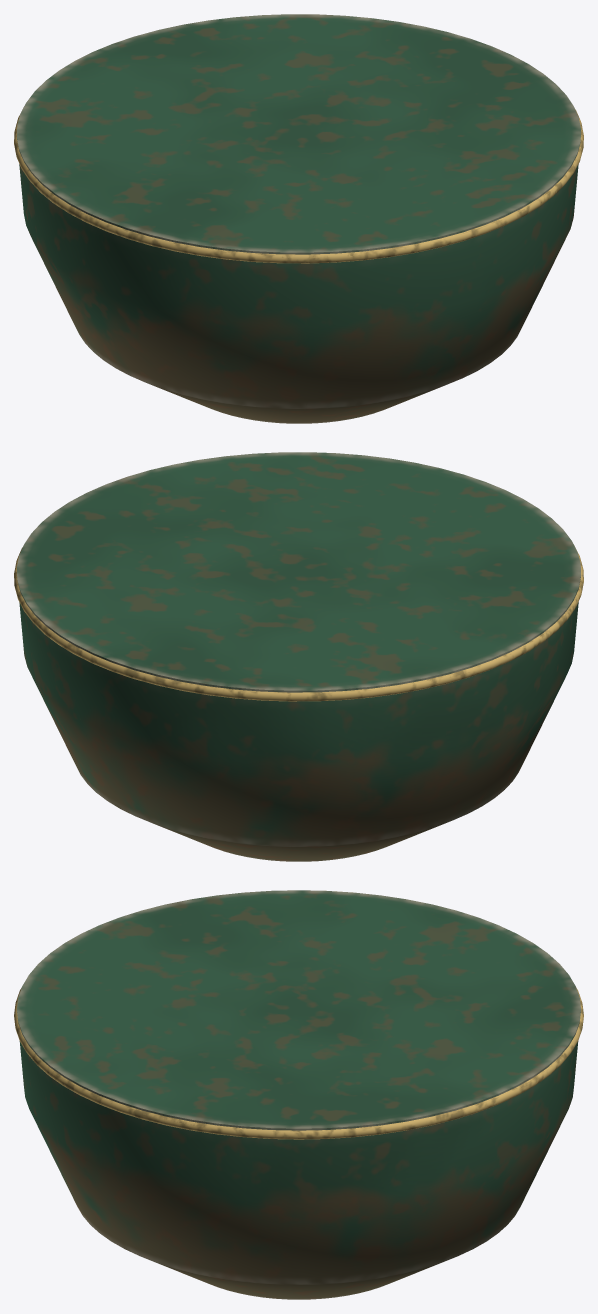
The model's file is colossus_shell.glb.
The picture shows the model from 3 angles, top to bottom: view 1: azimuth 30°, elevation 25°; view 2: azimuth 150°, elevation 25°; view 3: azimuth 270°, elevation 25°; orthographic projection.
Visible parts, largest first — view 1: colossus_shell; view 2: colossus_shell; view 3: colossus_shell.
Part boxes in pixels (x1,y1,x2,y2): colossus_shell: [14, 14, 583, 423]; colossus_shell: [14, 452, 583, 861]; colossus_shell: [14, 890, 583, 1299].
Size of the model in its own units: 4.04 by 1.9 by 4.04.
Materials: 2 (2 with a texture image).
